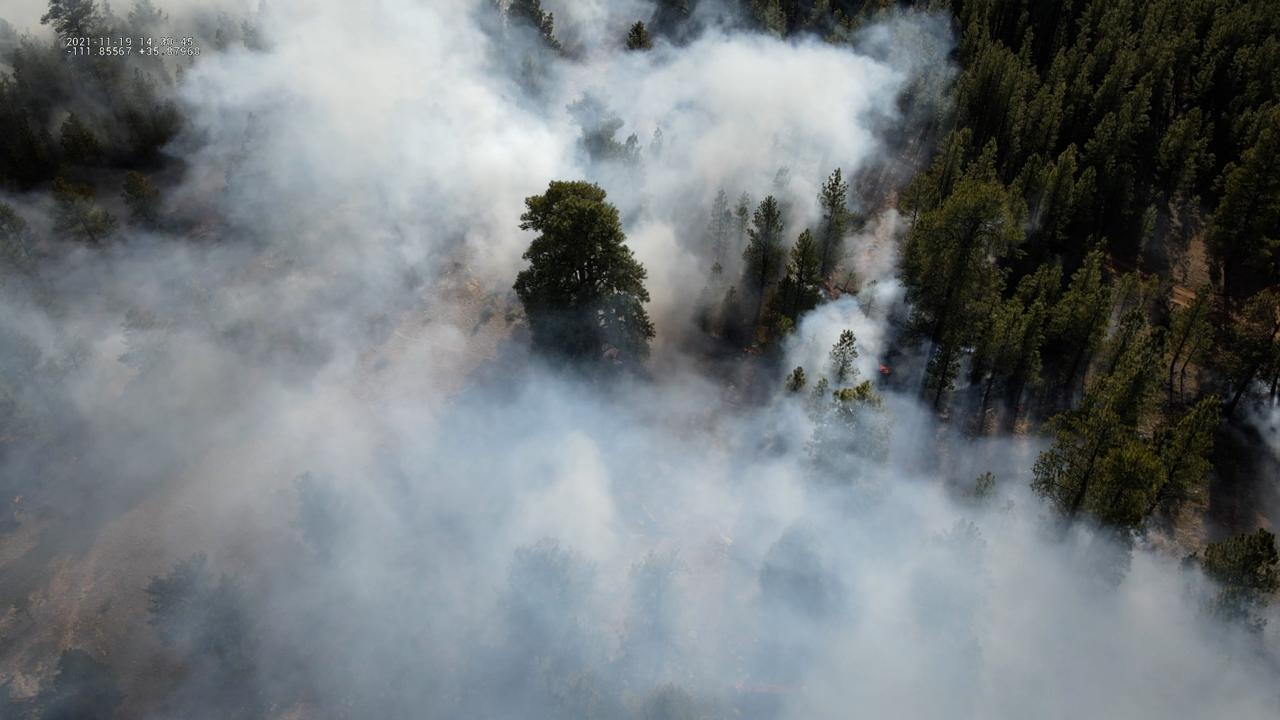fire: (876, 363, 893, 376), (13, 494, 22, 503)
smoke: (0, 0, 1280, 720)
